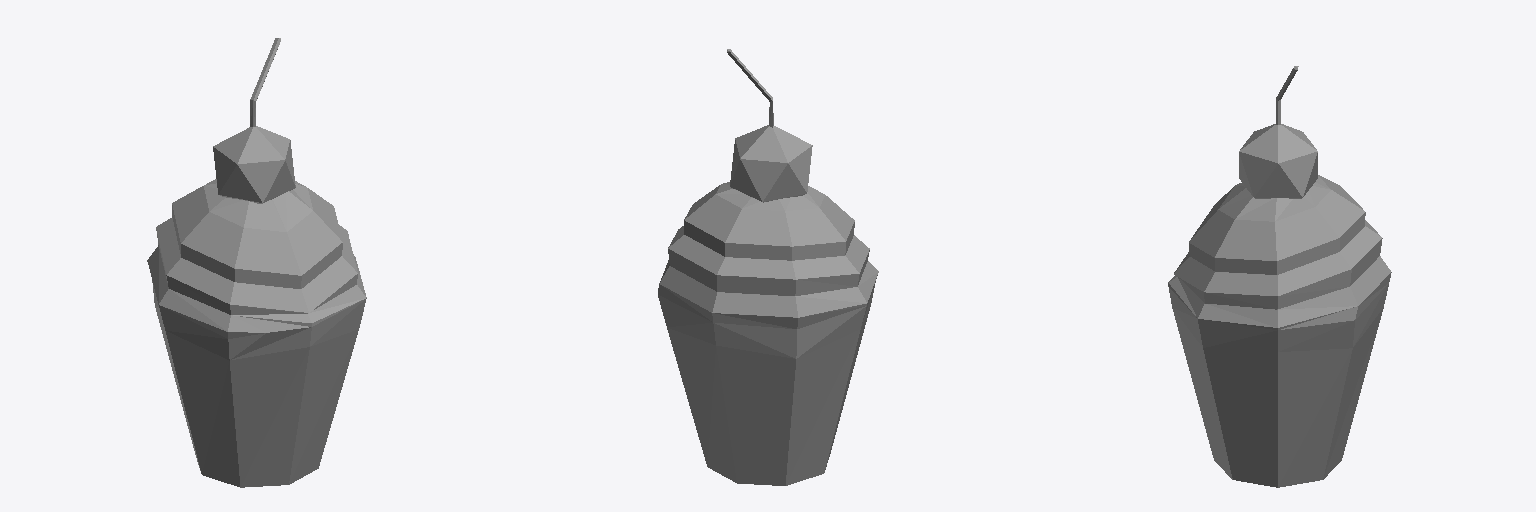
File: CupcakeCherry2.obj
3 renders of one model, left to right at view 1: azimuth 30°, elevation 25°; view 2: azimuth 150°, elevation 25°; view 3: azimuth 270°, elevation 25°, orthographic.
Parts seen in each view (by area): view 1: CupcakeCherry_Cylinder.002; view 2: CupcakeCherry_Cylinder.002; view 3: CupcakeCherry_Cylinder.002.
Boxes of the visible parts, box(x1,y1,x2,y2) form: CupcakeCherry_Cylinder.002: box(147, 38, 366, 487); CupcakeCherry_Cylinder.002: box(658, 49, 878, 485); CupcakeCherry_Cylinder.002: box(1168, 66, 1391, 487).
Bounding box in the file's own units: 0.6356 × 1.26 × 0.6243.